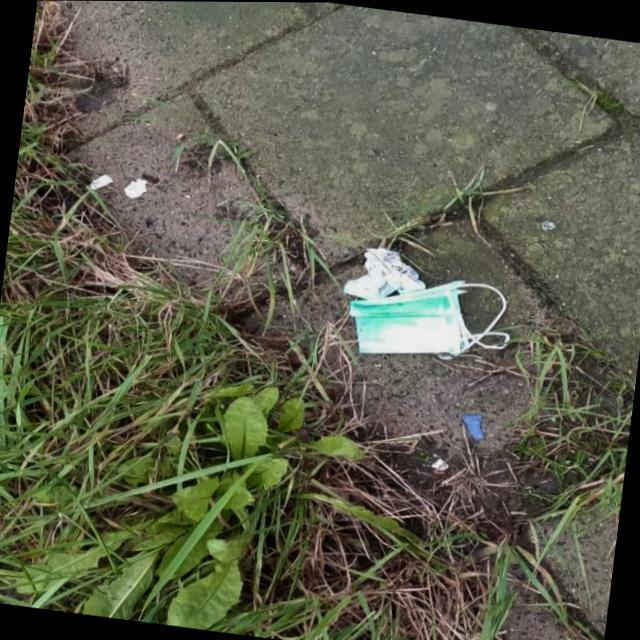Mask: (341, 263, 518, 372)
Paper: (341, 242, 431, 307)
